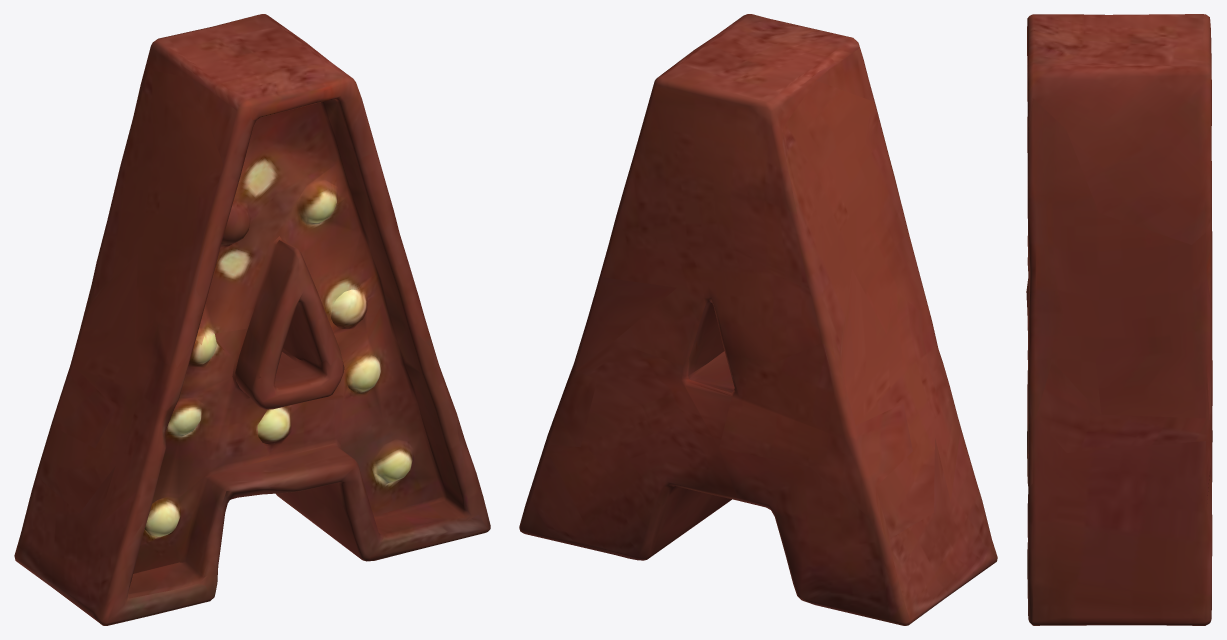
File: letter_a_idle.glb
3 renders of one model, left to right at view 1: azimuth 30°, elevation 25°; view 2: azimuth 150°, elevation 25°; view 3: azimuth 270°, elevation 25°, orthographic.
Visible parts, largest first — view 1: letter_a; view 2: letter_a; view 3: letter_a.
Boxes of the visible parts, x1=… form: letter_a: x1=14, y1=14, x2=490, y2=625; letter_a: x1=519, y1=14, x2=997, y2=625; letter_a: x1=1026, y1=14, x2=1212, y2=625.
Bounding box in the file's own units: 0.8196 × 0.9853 × 0.3366.
Materials: 1 (1 with a texture image).
